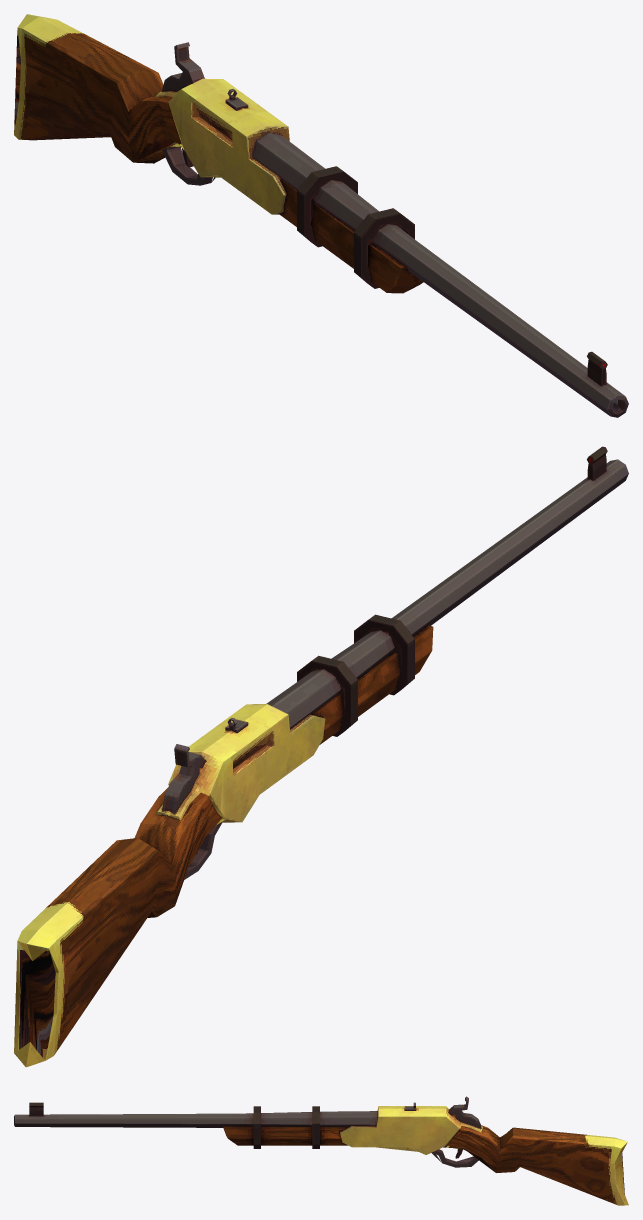
The model's file is item_precision_rifle.glb.
The picture shows the model from 3 angles, top to bottom: view 1: azimuth 30°, elevation 25°; view 2: azimuth 150°, elevation 25°; view 3: azimuth 270°, elevation 25°; orthographic projection. The views are drawn at different scales.
Visible parts, largest first — view 1: PrecisionRifle, Hammer; view 2: PrecisionRifle, Hammer; view 3: PrecisionRifle, Hammer.
Part boxes in pixels (x1=…): PrecisionRifle: x1=14, y1=14, x2=628, y2=417; Hammer: x1=162, y1=42, x2=204, y2=91; PrecisionRifle: x1=14, y1=446, x2=628, y2=1067; Hammer: x1=162, y1=744, x2=205, y2=814; PrecisionRifle: x1=14, y1=1102, x2=628, y2=1205; Hammer: x1=448, y1=1096, x2=481, y2=1128.
Size of the model in its own units: 0.06 by 0.2208 by 1.14.
Materials: 1 (1 with a texture image).
